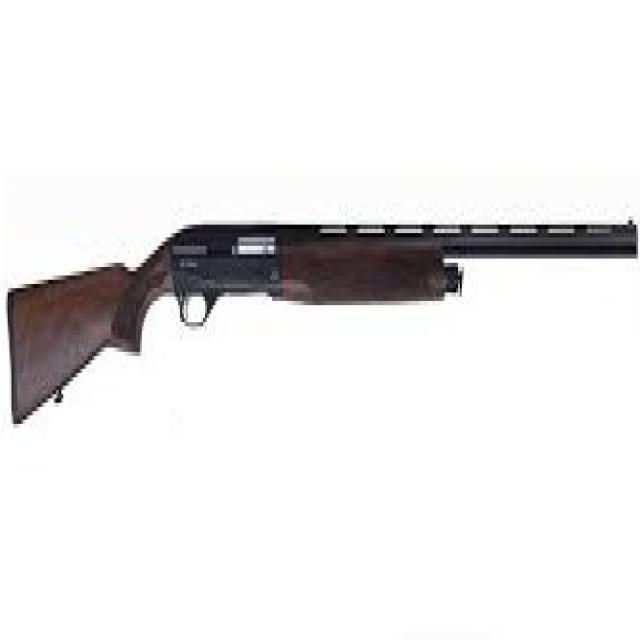rifle: (1, 183, 640, 442)
